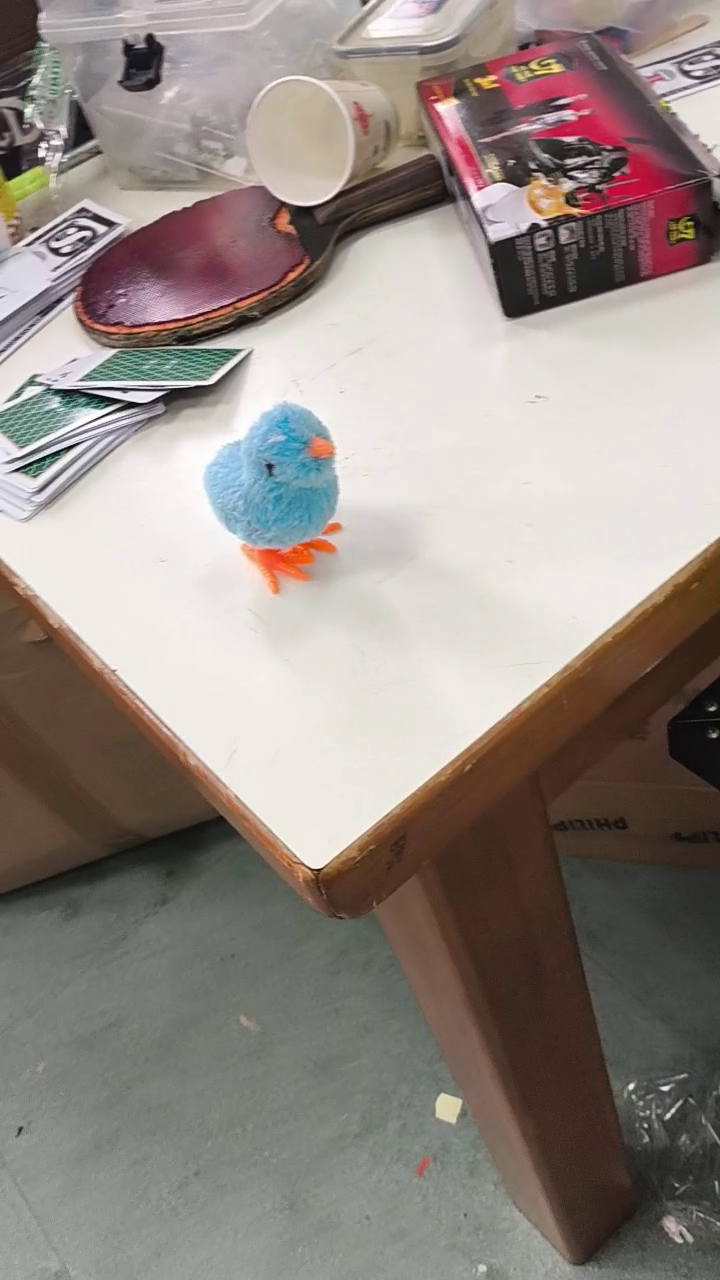blue chicken: (201, 400, 348, 599)
